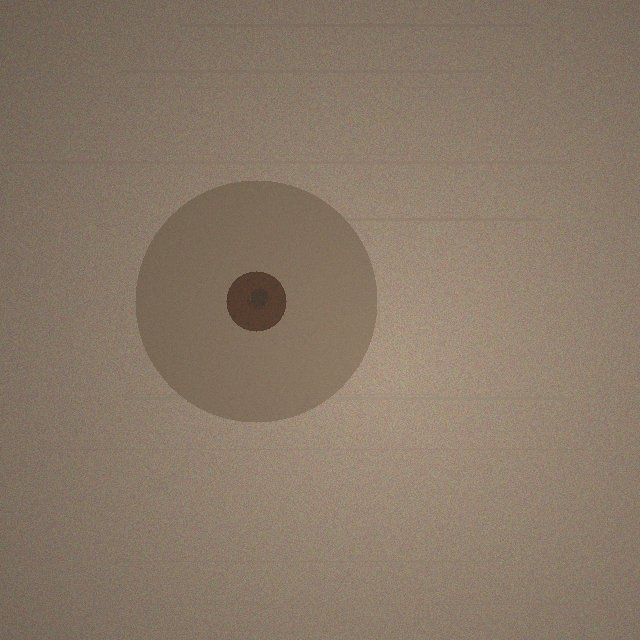cold_weld: (135, 180, 377, 422)
